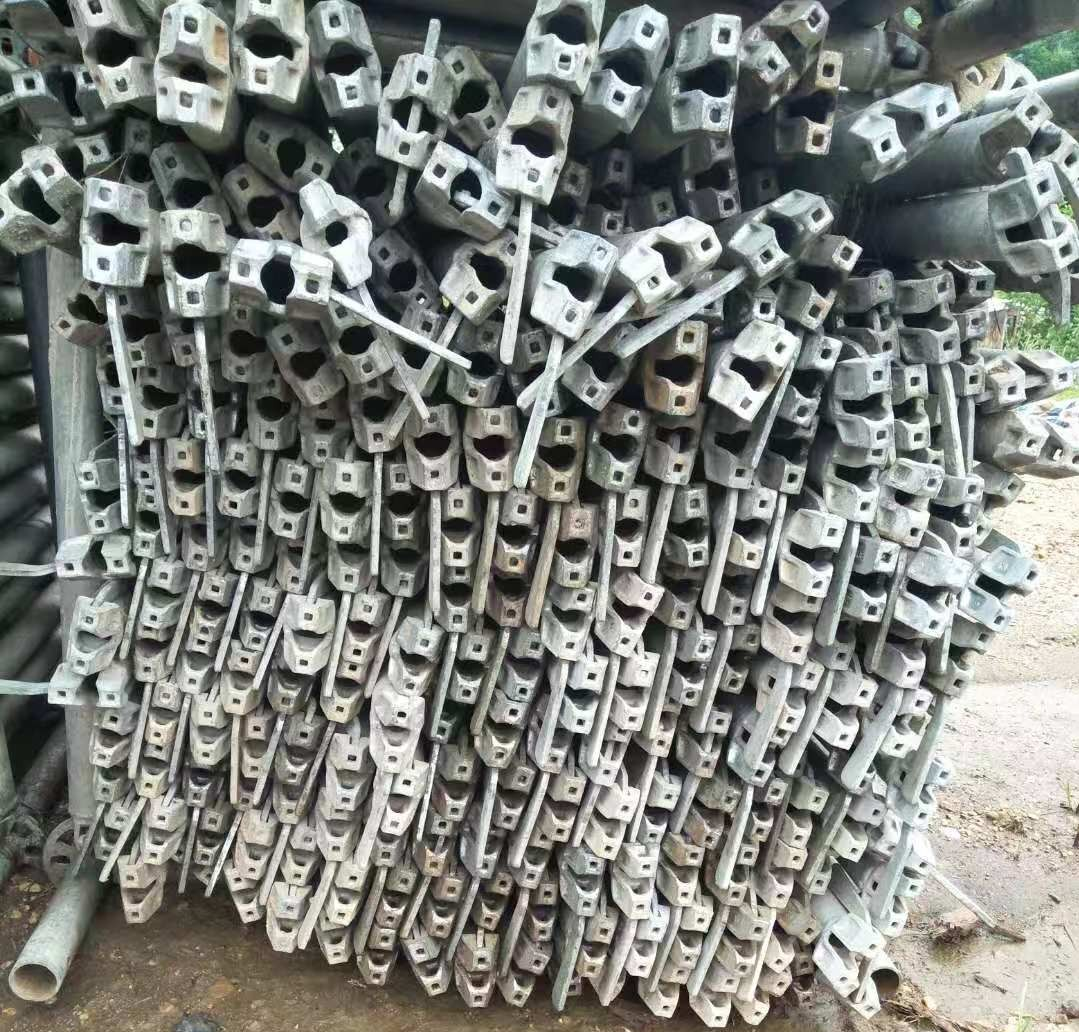NHsquare_steel: (303, 178, 373, 290)
THsquare_steel: (586, 6, 671, 132), (856, 85, 960, 180), (69, 1, 153, 112), (674, 12, 745, 138), (625, 218, 722, 310), (156, 1, 222, 133), (537, 235, 616, 342), (735, 192, 832, 279), (504, 83, 574, 202), (229, 1, 306, 104), (312, 2, 379, 114), (725, 322, 800, 422), (160, 209, 225, 322), (81, 178, 147, 289), (750, 1, 830, 92), (522, 2, 602, 90), (439, 44, 504, 150), (1, 149, 70, 241), (799, 234, 863, 332), (246, 116, 335, 185), (793, 51, 847, 164), (570, 329, 642, 412), (445, 238, 515, 323), (325, 294, 390, 383), (653, 319, 712, 416), (271, 323, 338, 405), (1007, 97, 1079, 173), (371, 234, 440, 313), (784, 335, 843, 425), (12, 63, 100, 121), (223, 167, 290, 243), (591, 406, 649, 491), (910, 272, 963, 365), (687, 135, 744, 221), (449, 321, 505, 408), (831, 441, 890, 522), (152, 144, 221, 213), (981, 555, 1042, 632), (406, 406, 461, 490), (918, 556, 973, 640), (892, 462, 945, 549), (345, 142, 398, 228), (221, 301, 271, 391), (538, 415, 588, 504), (325, 461, 376, 545), (515, 328, 563, 417), (1006, 418, 1079, 476), (852, 356, 897, 450), (470, 406, 520, 490), (794, 512, 845, 594), (63, 599, 118, 675), (824, 918, 882, 990), (394, 307, 443, 392), (605, 579, 658, 657), (109, 288, 159, 368), (370, 695, 421, 773), (161, 438, 211, 517), (593, 147, 635, 240), (52, 280, 110, 347), (853, 535, 897, 623), (247, 373, 296, 452), (941, 626, 993, 700), (270, 460, 318, 540), (498, 492, 541, 580), (541, 585, 591, 659), (590, 784, 639, 859), (216, 443, 265, 517), (556, 506, 598, 589), (138, 561, 190, 628), (713, 419, 761, 491), (135, 366, 181, 441), (827, 678, 875, 749), (975, 473, 1025, 541), (379, 463, 422, 542), (560, 659, 605, 734), (896, 367, 936, 451), (392, 626, 440, 696), (76, 463, 122, 536), (676, 483, 715, 569), (610, 489, 650, 572), (771, 422, 815, 497), (191, 575, 240, 642), (736, 488, 775, 571), (55, 541, 133, 582), (883, 690, 929, 759), (448, 636, 496, 702), (441, 491, 479, 573), (691, 780, 736, 849), (906, 761, 950, 831), (327, 738, 370, 809), (674, 632, 714, 708), (403, 939, 455, 997), (354, 383, 399, 450), (290, 601, 331, 674), (383, 767, 427, 835), (742, 718, 788, 783), (840, 797, 885, 863), (115, 118, 156, 189), (126, 495, 172, 558), (504, 947, 553, 1006), (947, 475, 983, 555), (958, 314, 991, 401), (508, 631, 548, 702), (547, 164, 592, 227), (240, 581, 281, 650), (544, 775, 585, 844), (57, 129, 113, 179), (345, 593, 385, 663), (775, 664, 816, 732), (778, 592, 816, 665), (766, 917, 821, 967), (723, 627, 763, 695), (191, 698, 232, 764), (618, 661, 656, 732), (382, 544, 430, 600), (459, 944, 500, 1009), (485, 706, 525, 772), (663, 569, 706, 630), (639, 777, 678, 844), (324, 660, 364, 725), (305, 404, 349, 463), (566, 850, 604, 918), (421, 877, 462, 940), (789, 784, 828, 850), (762, 846, 804, 907), (89, 709, 133, 767), (233, 818, 274, 880), (278, 723, 320, 783), (439, 751, 475, 821), (745, 780, 785, 843), (143, 800, 183, 863), (669, 908, 709, 971), (889, 872, 927, 938), (48, 679, 126, 711), (666, 845, 706, 907), (182, 516, 227, 571), (725, 912, 764, 975), (742, 974, 790, 1025), (376, 867, 416, 928), (95, 348, 132, 413), (227, 523, 274, 574), (118, 862, 156, 924), (326, 866, 365, 926), (579, 917, 618, 977), (175, 642, 218, 696), (238, 715, 274, 779), (162, 316, 207, 367), (716, 566, 754, 626), (221, 656, 259, 716), (442, 567, 476, 634), (277, 543, 323, 592), (475, 876, 515, 932), (723, 846, 760, 906), (191, 812, 232, 866), (132, 627, 171, 683), (622, 859, 659, 918), (223, 872, 264, 925), (282, 829, 320, 886), (629, 919, 664, 980), (824, 616, 862, 672), (495, 771, 530, 831), (645, 697, 681, 755), (331, 543, 373, 592), (144, 685, 180, 742), (363, 929, 399, 986), (890, 633, 926, 689), (524, 885, 560, 941), (704, 968, 740, 1024), (95, 806, 131, 861), (492, 574, 530, 625), (273, 895, 305, 954), (320, 808, 357, 859), (538, 723, 574, 773), (315, 918, 352, 966), (519, 834, 553, 886), (471, 826, 504, 879), (269, 669, 307, 715), (654, 967, 687, 1018), (139, 746, 171, 797), (181, 766, 220, 806), (793, 954, 821, 1005), (430, 702, 462, 744), (276, 782, 309, 822), (93, 769, 129, 804), (372, 831, 403, 865), (232, 779, 261, 811)
THsquare_steel_blocked: (372, 47, 445, 166), (414, 152, 509, 242), (1013, 165, 1079, 275), (991, 354, 1076, 405), (653, 411, 705, 486), (865, 265, 903, 358), (686, 709, 729, 780), (188, 369, 229, 439), (876, 827, 936, 871), (424, 815, 458, 879), (590, 730, 629, 784)
circle_steel: (5, 962, 63, 1006), (866, 961, 900, 999)
